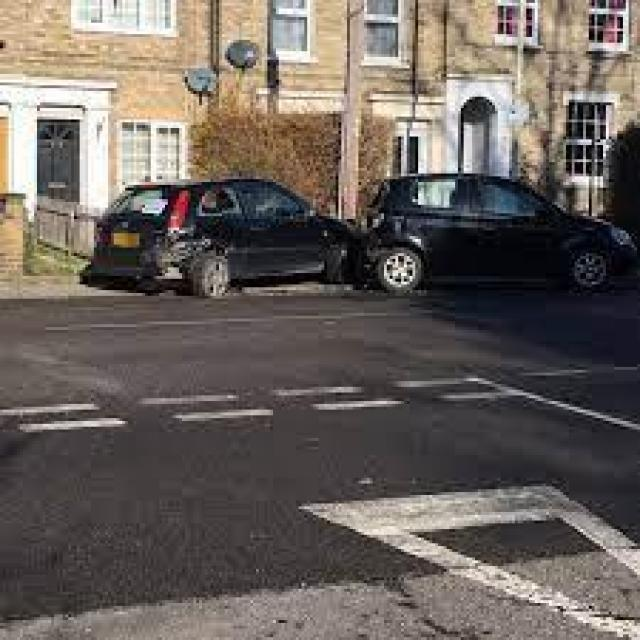multiple_accident: (249, 186, 449, 309)
